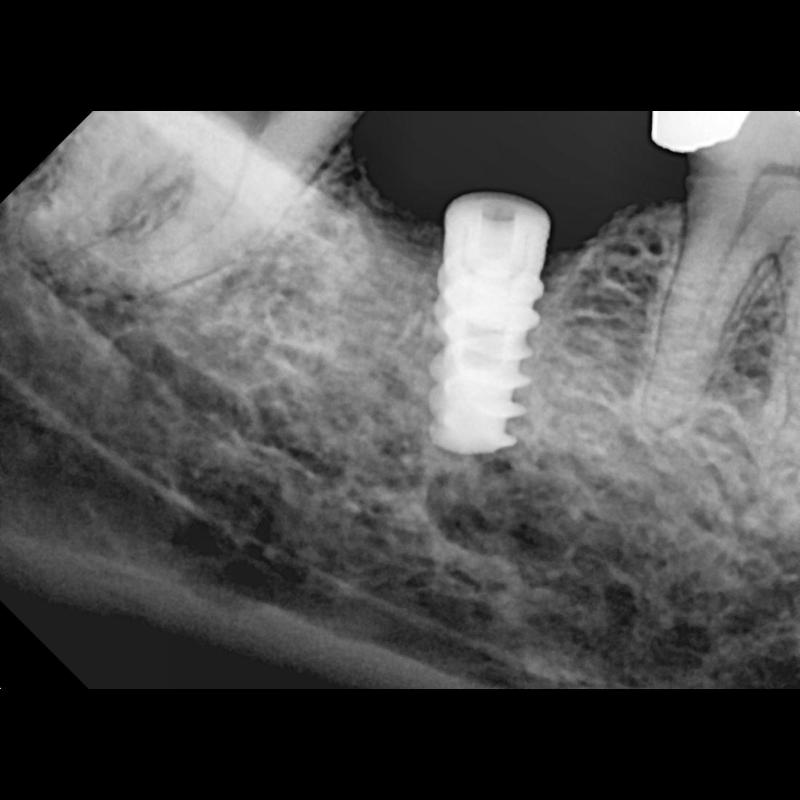NORIS: (424, 186, 552, 458)
